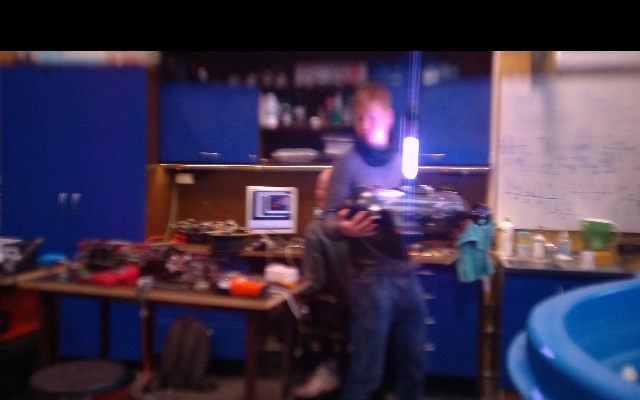white: (401, 135, 420, 178)
